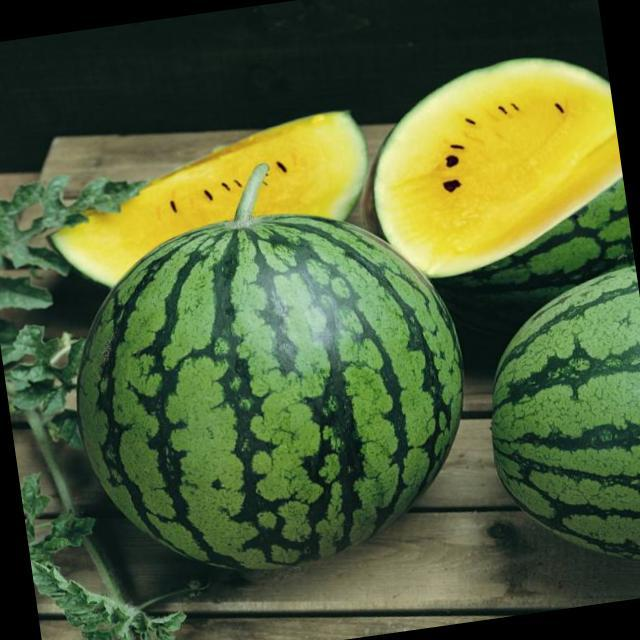WATERMELON: (62, 184, 474, 580), (358, 24, 636, 305), (44, 90, 388, 276), (472, 272, 640, 585)
